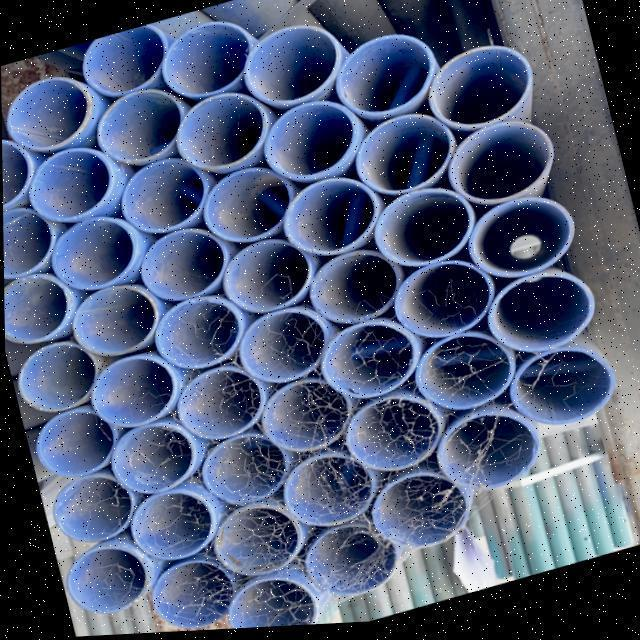pipe: (436, 418, 537, 511), (427, 51, 531, 136), (511, 349, 613, 434), (445, 127, 552, 208), (490, 277, 594, 360), (303, 521, 396, 612), (355, 120, 457, 202), (164, 22, 258, 110), (339, 40, 441, 121), (472, 203, 576, 282), (250, 30, 346, 115), (391, 265, 491, 345), (343, 402, 443, 482), (284, 183, 381, 265), (367, 481, 465, 562), (373, 196, 473, 275), (414, 337, 509, 417), (321, 329, 419, 406), (267, 107, 359, 189), (175, 95, 269, 175), (311, 252, 401, 331), (99, 90, 187, 170), (50, 218, 140, 296), (174, 372, 264, 449), (223, 243, 312, 320), (206, 170, 295, 247), (286, 458, 378, 532), (142, 231, 230, 308), (262, 382, 353, 456), (87, 25, 172, 104), (125, 160, 209, 239), (72, 285, 157, 363), (243, 312, 329, 388), (158, 300, 244, 376), (215, 509, 303, 583), (89, 355, 177, 426), (31, 148, 113, 224), (198, 442, 287, 511), (147, 563, 233, 633), (112, 427, 196, 498), (9, 79, 89, 152), (130, 495, 213, 565), (63, 551, 146, 620), (35, 413, 116, 482), (51, 478, 132, 546), (16, 345, 94, 415), (3, 278, 69, 348), (226, 583, 318, 631), (2, 206, 52, 281), (2, 139, 30, 209)
